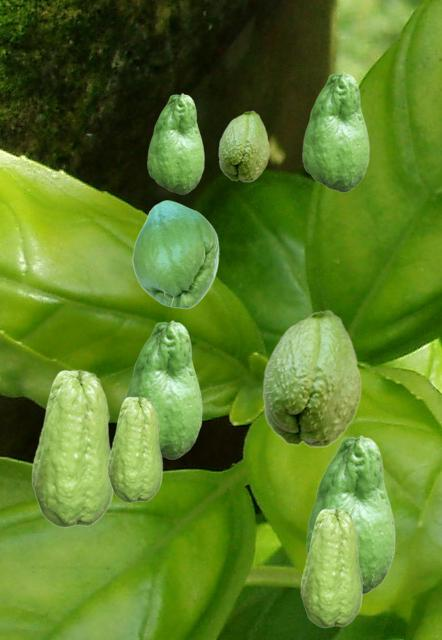sayote: (306, 435, 394, 593), (262, 309, 361, 447), (31, 369, 113, 527), (125, 320, 201, 458), (132, 200, 218, 308), (302, 72, 368, 191), (300, 508, 362, 627), (107, 396, 162, 502), (147, 93, 203, 193), (218, 110, 269, 181)
